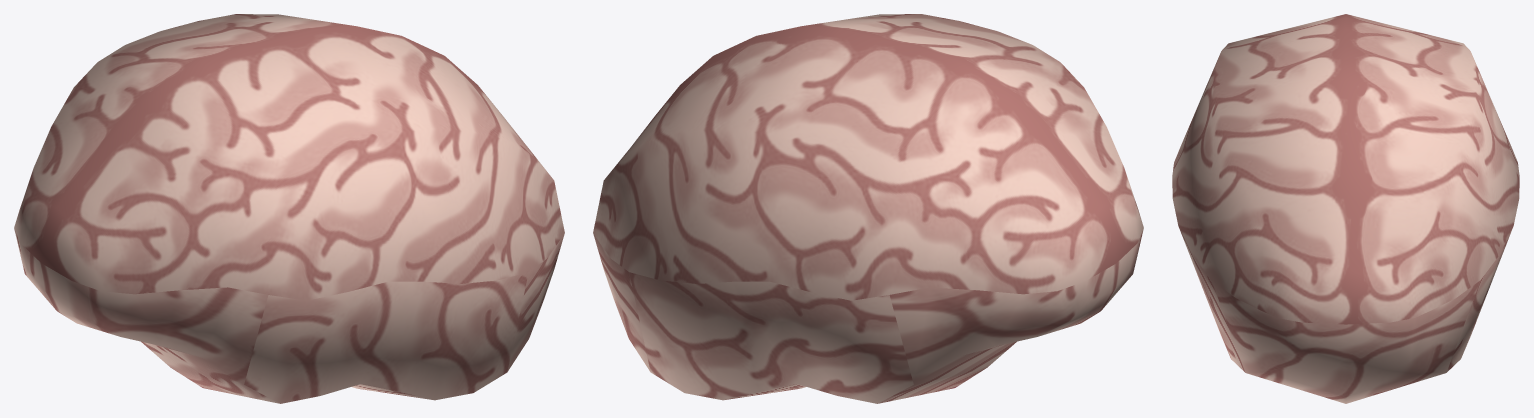
File: BRAIN.fbx
The picture shows the model from 3 angles, left to right: view 1: azimuth 30°, elevation 25°; view 2: azimuth 150°, elevation 25°; view 3: azimuth 270°, elevation 25°; orthographic projection. The views are drawn at different scales.
Visible parts, largest first — view 1: pCube1; view 2: pCube1; view 3: pCube1.
Boxes of the visible parts, bbox=[...] form: pCube1: bbox=[14, 14, 564, 403]; pCube1: bbox=[593, 14, 1143, 403]; pCube1: bbox=[1172, 14, 1519, 403].
Size of the model in its own units: 2.86 by 2.06 by 2.16.
1 material, 1 textured.
